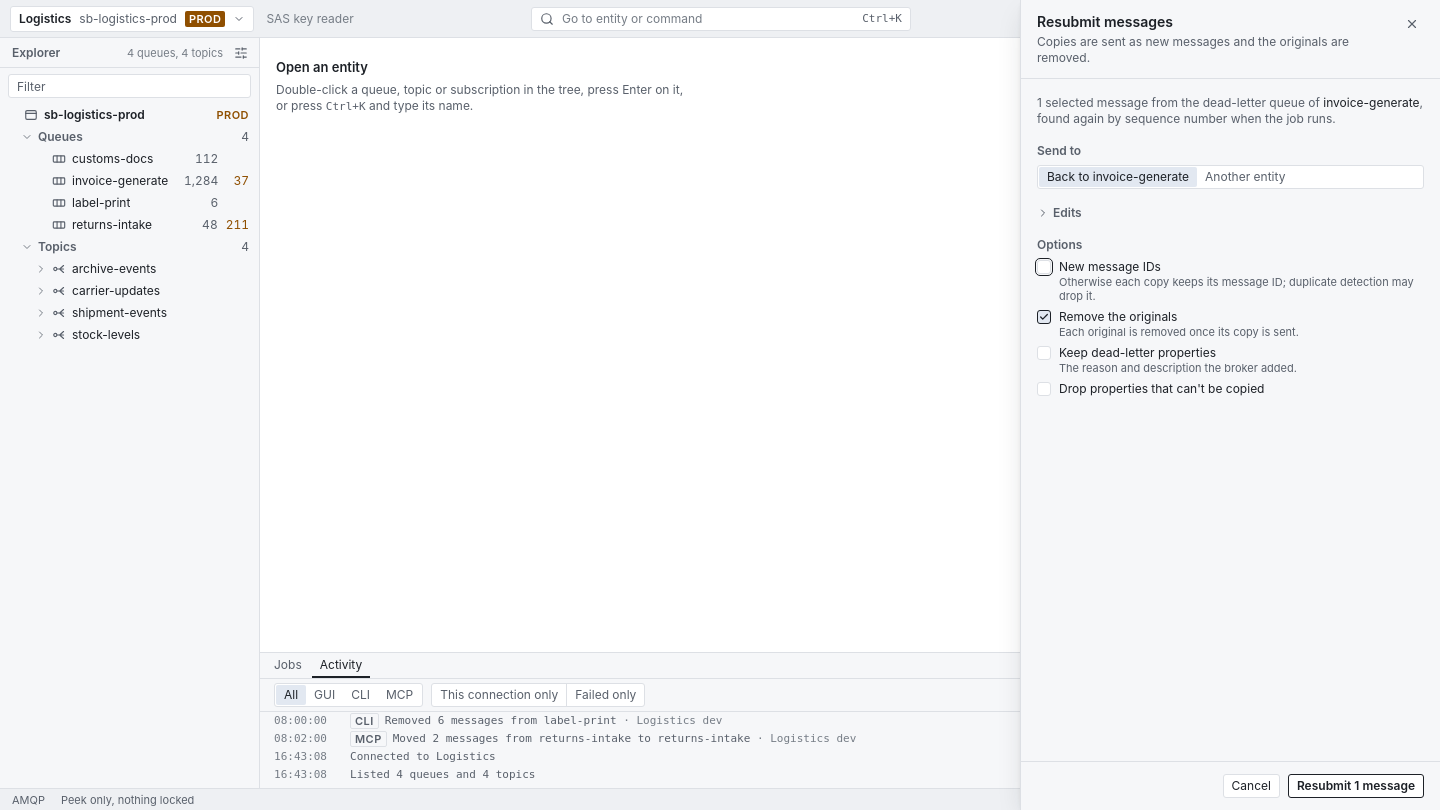
Test: operation sheets after review › resubmit says what happens to the originals and picks the target with a segmented control
This screenshot has width=1440, height=810.
Expected: the text "Copies are sent as new messages and the originals are removed." is shown, [1037, 34, 1392, 66]
Click the checkbox labelled "Remove the originals".
click(1044, 317)  # box [1037, 310, 1051, 324]
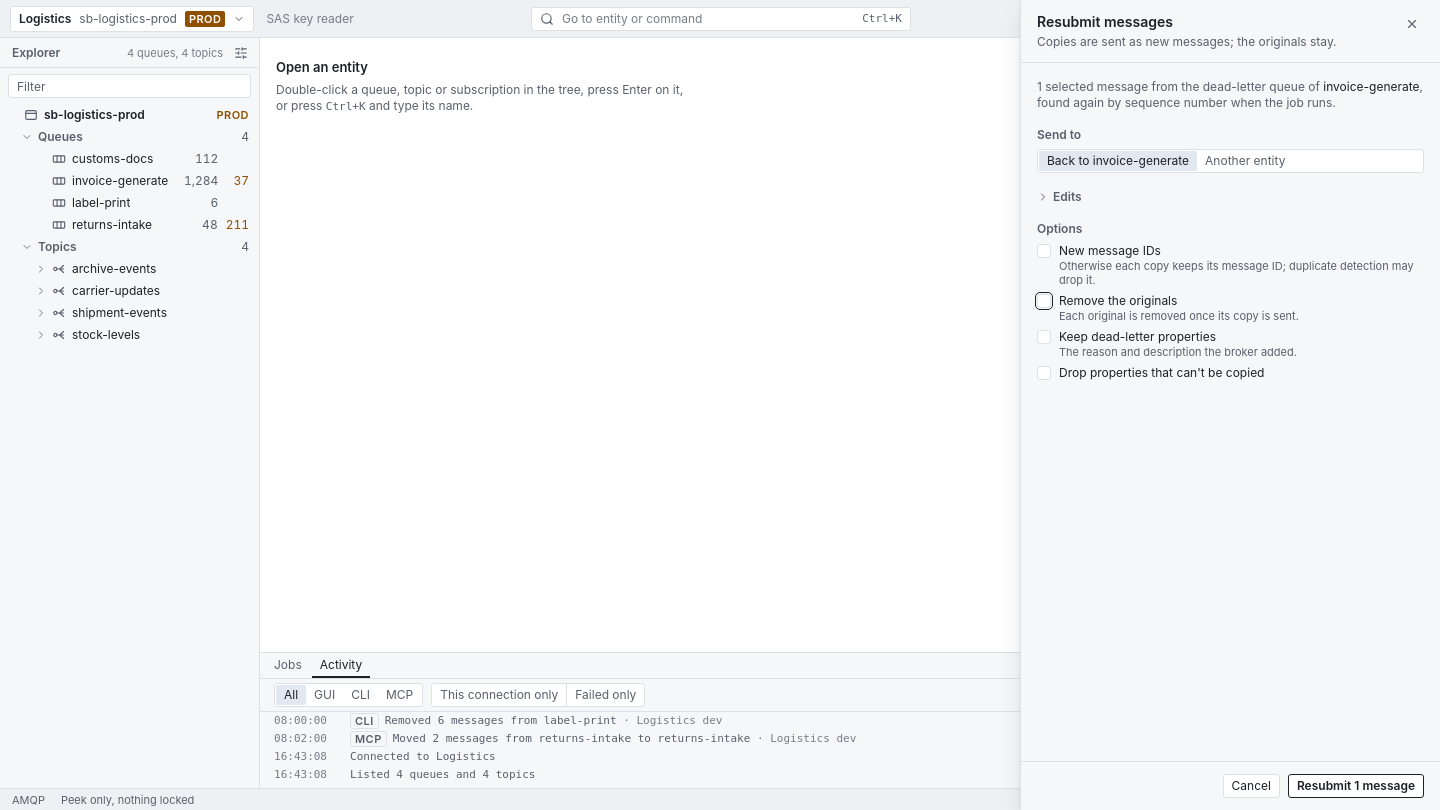
Expected: the radio button labelled "Back to invoice-generate" is checked, [1039, 151, 1197, 171]
Expected: the text "Copies are sent as new messages; the originals stay." is shown, [1037, 34, 1337, 49]
Click the radio button labelled "Another entity".
click(1245, 161)  # box [1197, 151, 1293, 171]
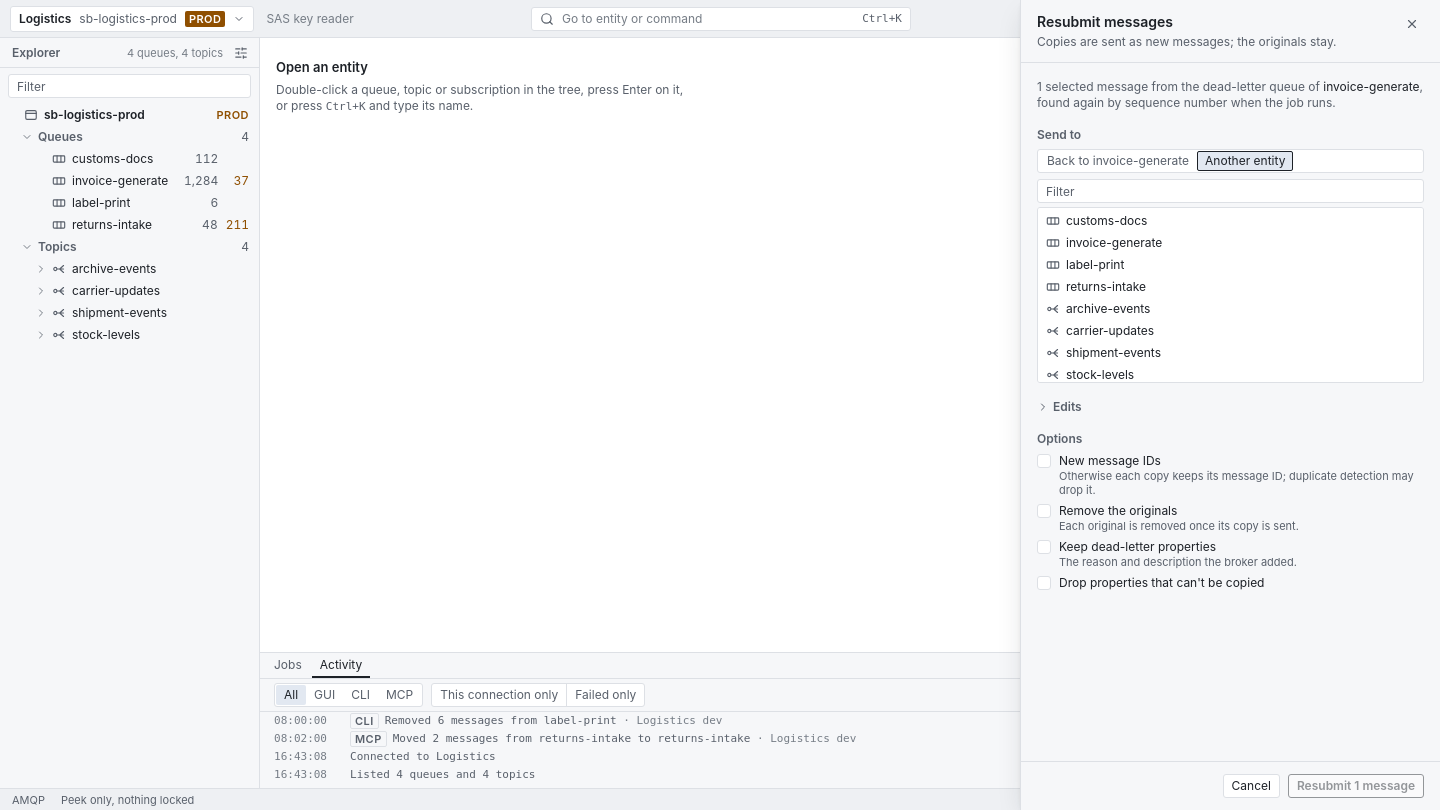
Expected: the list named "Resubmit to" is shown, [1037, 207, 1424, 383]
